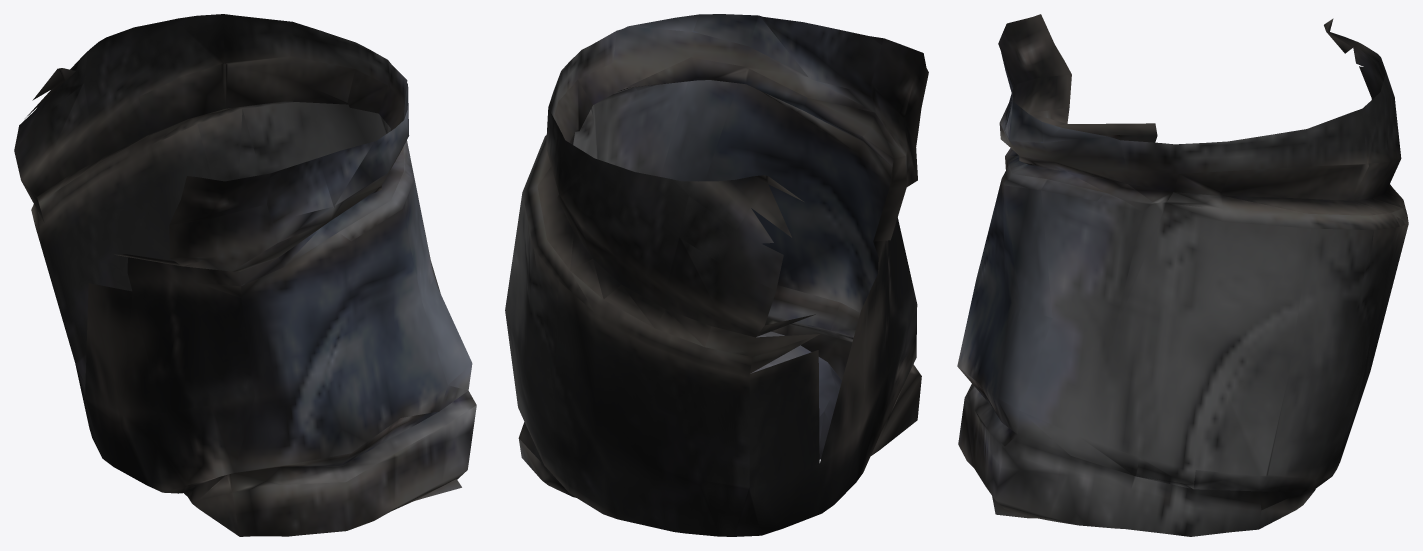
Rendered from LeftLowerArm.glb.
3 renders of one model, left to right at view 1: azimuth 30°, elevation 25°; view 2: azimuth 150°, elevation 25°; view 3: azimuth 270°, elevation 25°, orthographic. The views are drawn at different scales.
Visible parts, largest first — view 1: LeftLowerArm; view 2: LeftLowerArm; view 3: LeftLowerArm.
Boxes of the visible parts, <box> form: LeftLowerArm: <box>14,14,476,536</box>; LeftLowerArm: <box>505,14,928,536</box>; LeftLowerArm: <box>957,14,1408,536</box>.
Bounding box in the file's own units: 1.22 × 1.31 × 1.42.
Materials: 1 (1 with a texture image).
